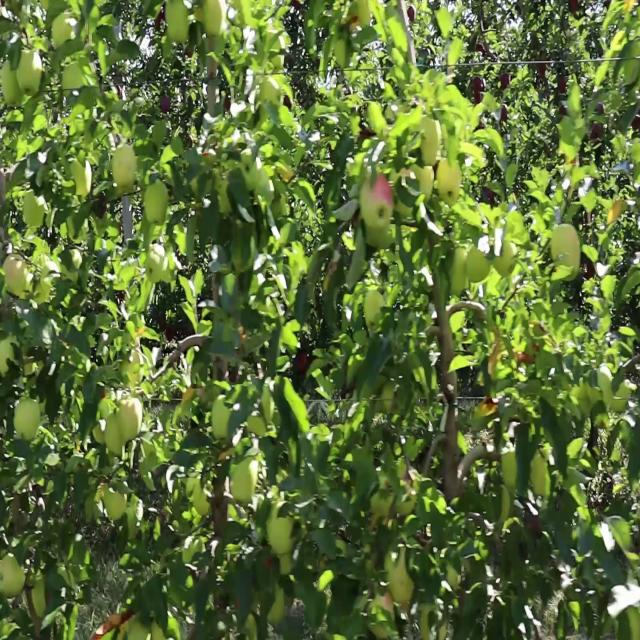apple: (552, 221, 581, 284), (361, 175, 393, 230), (384, 550, 413, 603), (229, 454, 259, 505), (266, 500, 294, 553), (436, 156, 463, 205), (112, 143, 137, 192), (14, 398, 41, 441), (492, 237, 519, 280), (18, 48, 42, 96), (144, 180, 168, 226), (0, 553, 25, 597), (119, 395, 143, 440), (211, 396, 234, 442), (468, 240, 492, 284), (165, 1, 189, 44), (2, 254, 27, 295), (105, 410, 125, 460), (2, 58, 21, 109), (200, 0, 224, 38), (70, 157, 92, 198), (451, 244, 468, 295), (23, 190, 45, 228), (145, 242, 165, 283), (105, 487, 126, 520)
